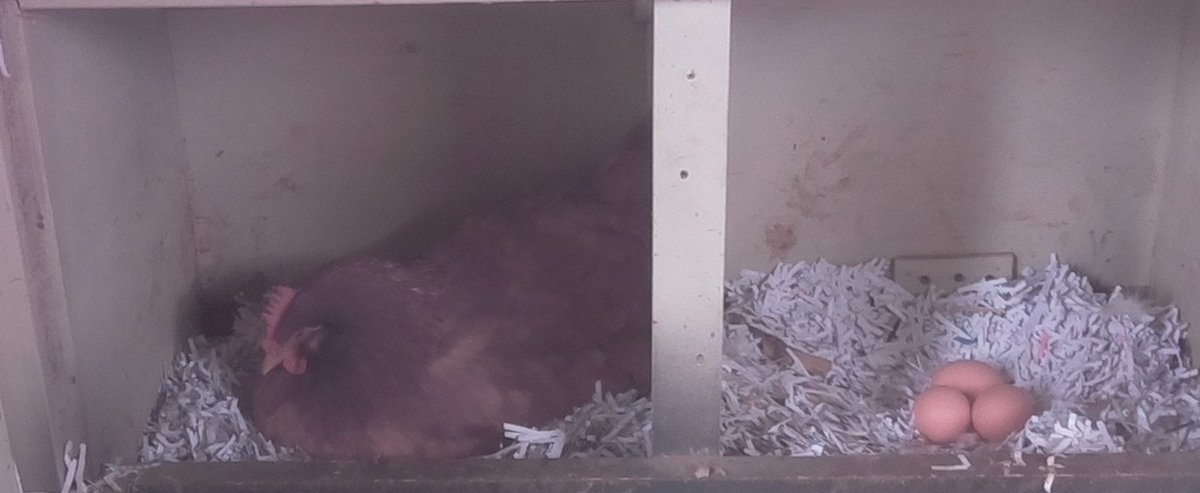egg: (968, 380, 1043, 452), (906, 383, 970, 450), (929, 357, 1014, 395)
hen: (232, 109, 650, 455)
